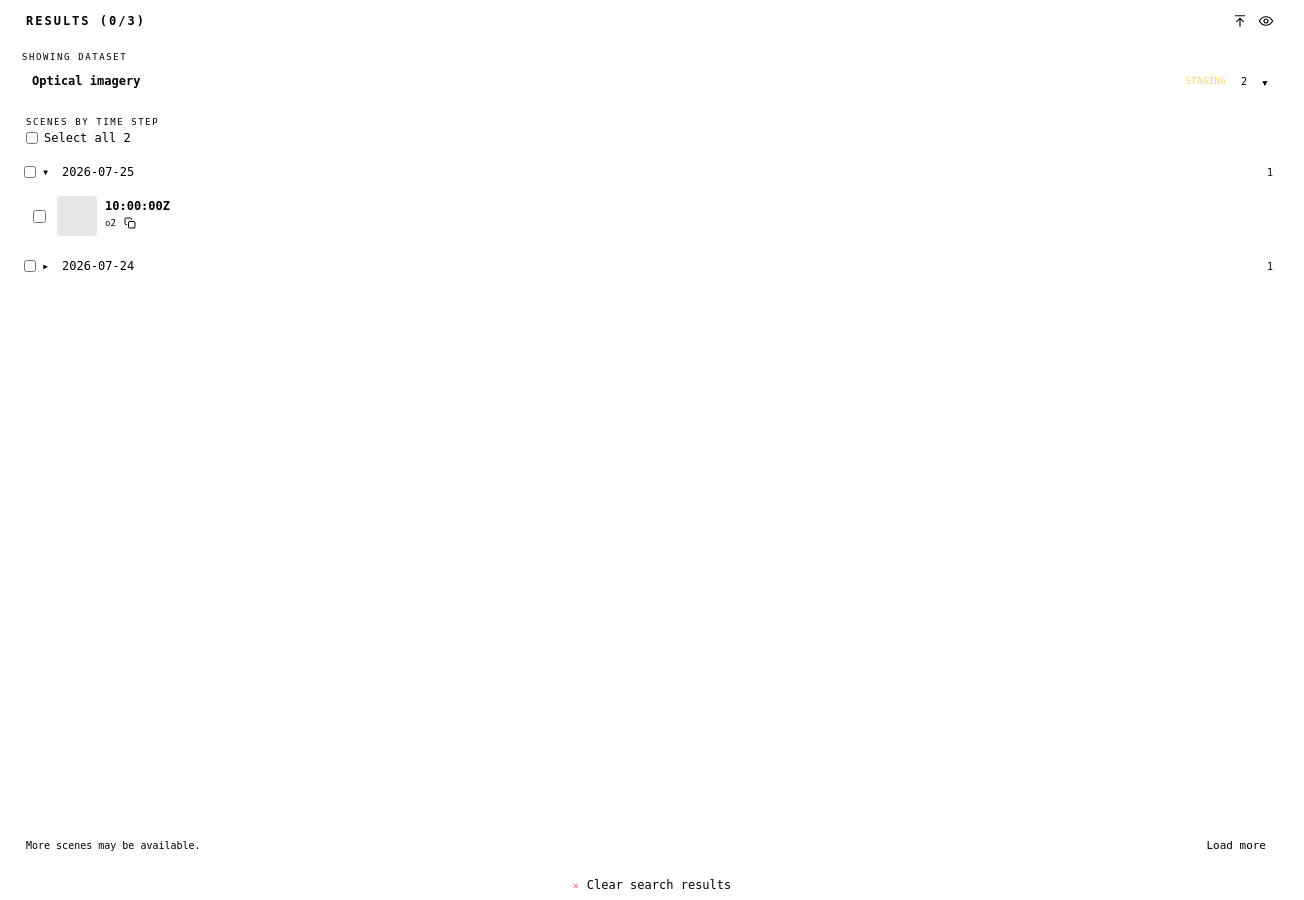
Scenario: ResultsPanel "Load more" and the fallback (M3-10b) › tells the dataset without pages that there is nothing more once "Load more" was used
Step 1. Click the button with class "dataset-select-box" → x=86, y=81, box [22, 67, 1282, 95]
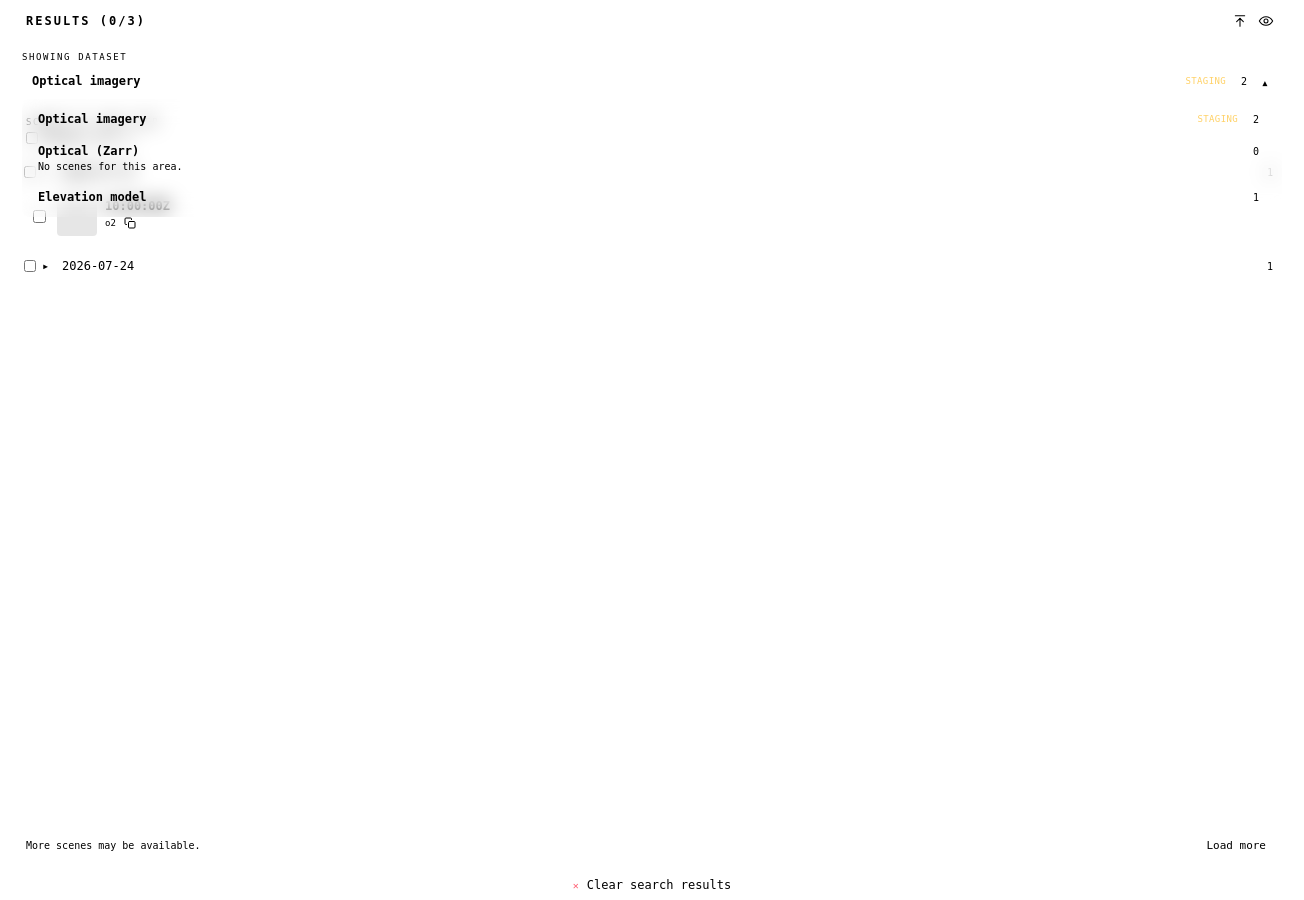
Step 2. Click the option with class "dataset-select-option" showing "Elevation model 1" → x=92, y=197, box [28, 183, 1276, 211]
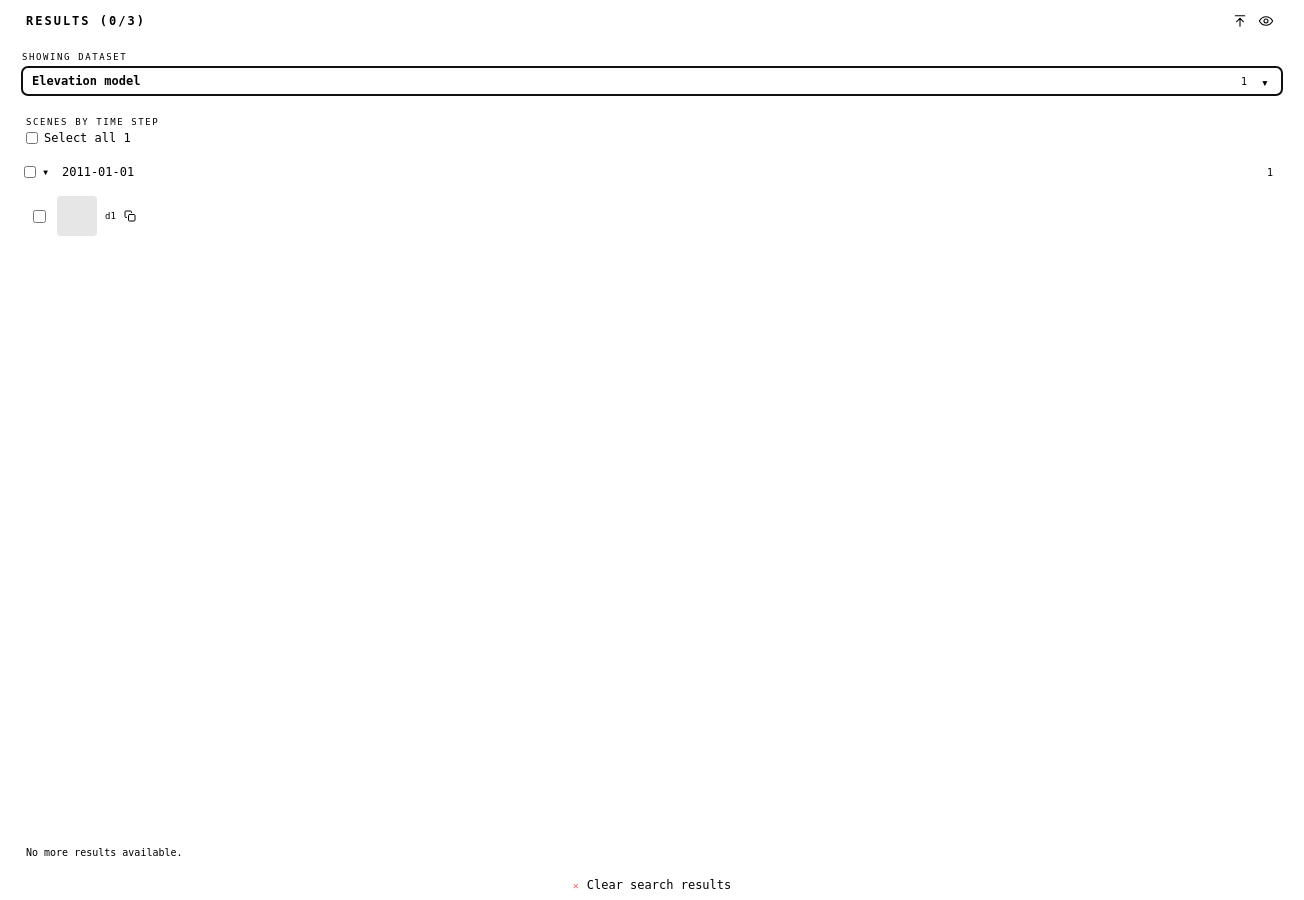
expect the text with class "load-more" reads "No more results available.": met, box [26, 847, 182, 858]
expect the button "▾ 2026-07-25 1" is gone: met
